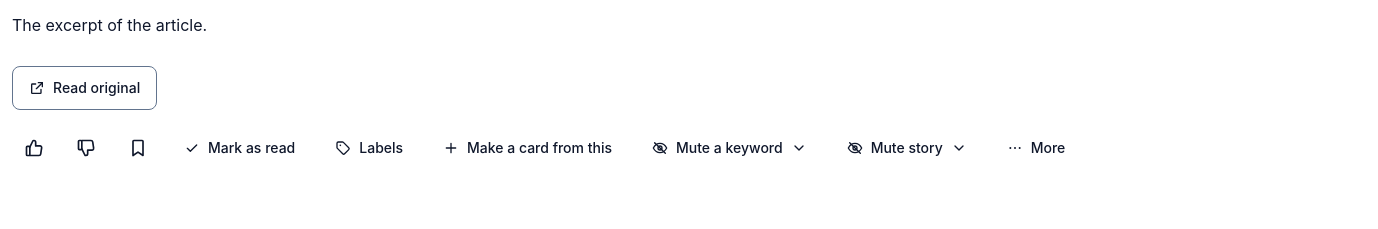
Test: the opened article whose change is waiting to be sent › says so once
This screenshot has width=1378, height=229.
Check: the text "The excerpt of the article." is shown, box [12,15,207,35]
Click the button named "Like" at (34, 148), box [12,126,56,170]
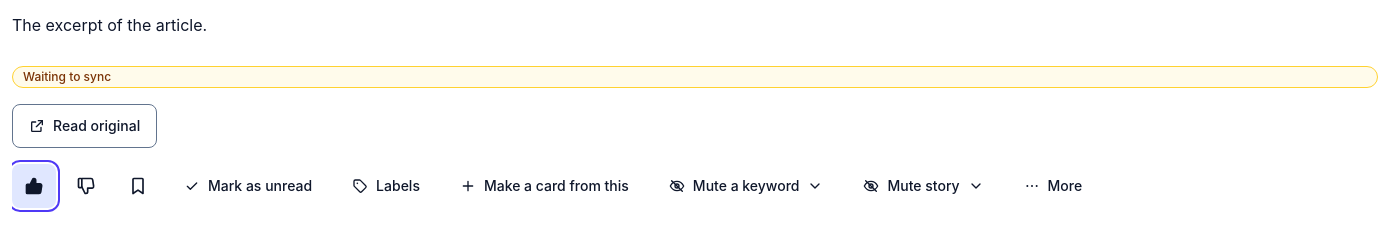
Check: the text "Waiting to sync" is shown once, box [12,66,1377,88]
